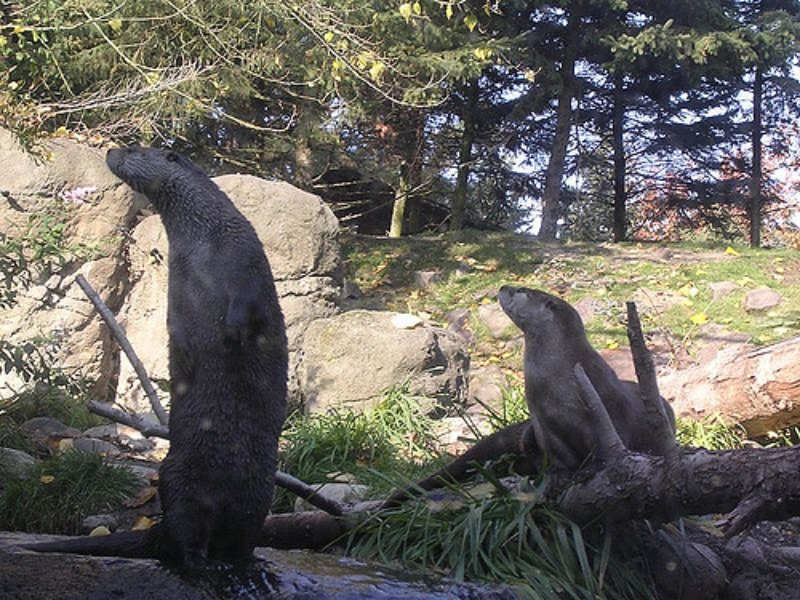minkish: (101, 136, 304, 587), (382, 280, 686, 513)
